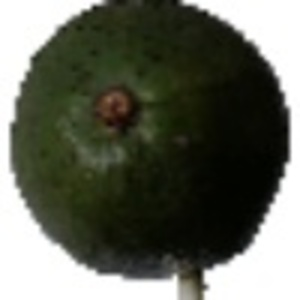abacate: (9, 4, 294, 280)
